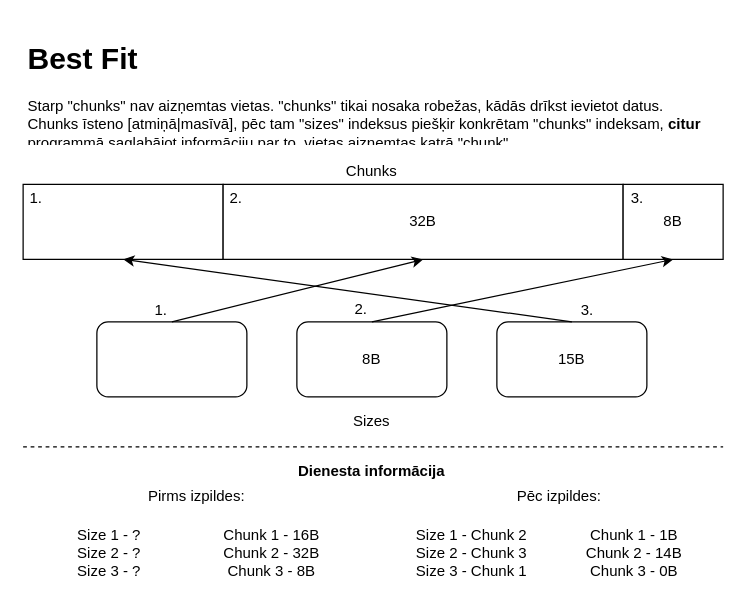
Image size: 746x605. Some labels were removed from this diagram. The shapes that lost their labels are listed below. From the top down, each one's centre as x and y in pixels, then its label:
At pixel 122 221: "16B".
At pixel 171 359: "18B".
